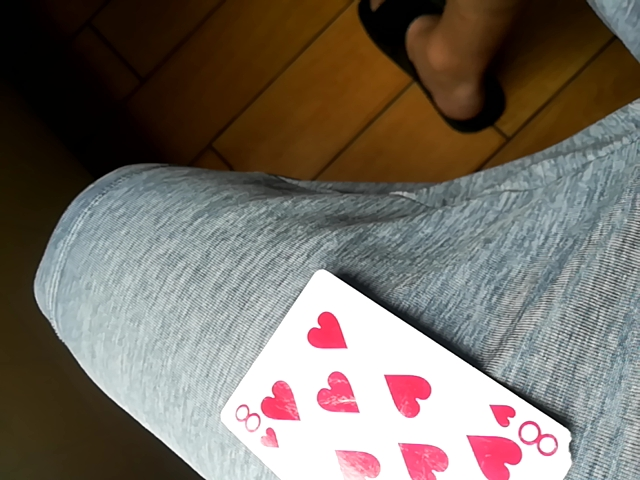hx 8: (225, 270, 575, 480)
